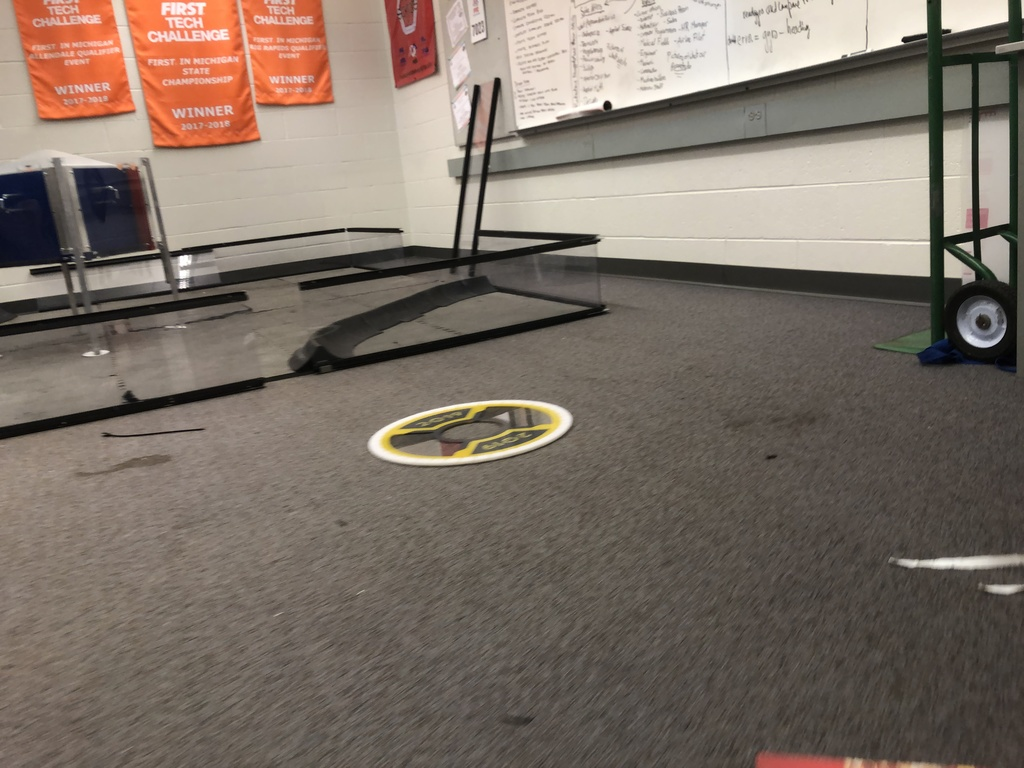hatch_panel: (362, 391, 589, 468)
